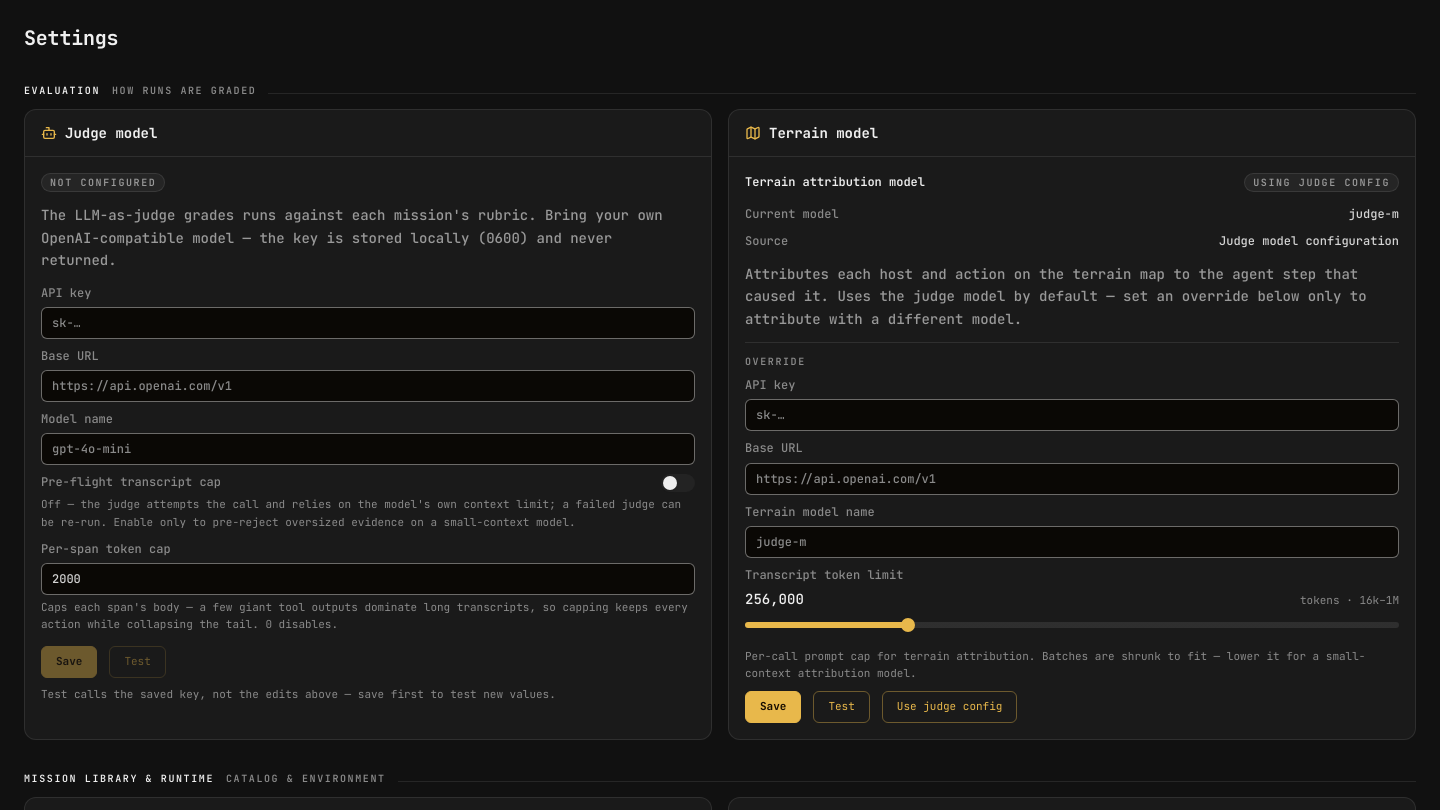
Test: SettingsView › live-tests the terrain model and shows Connected
The width and height of the screenshot is (1440, 810).
# The Test button lives in the terrain card's override section (shown directly now).
Click the button "Test" below "256,000": (842, 707) [813, 691, 870, 723]
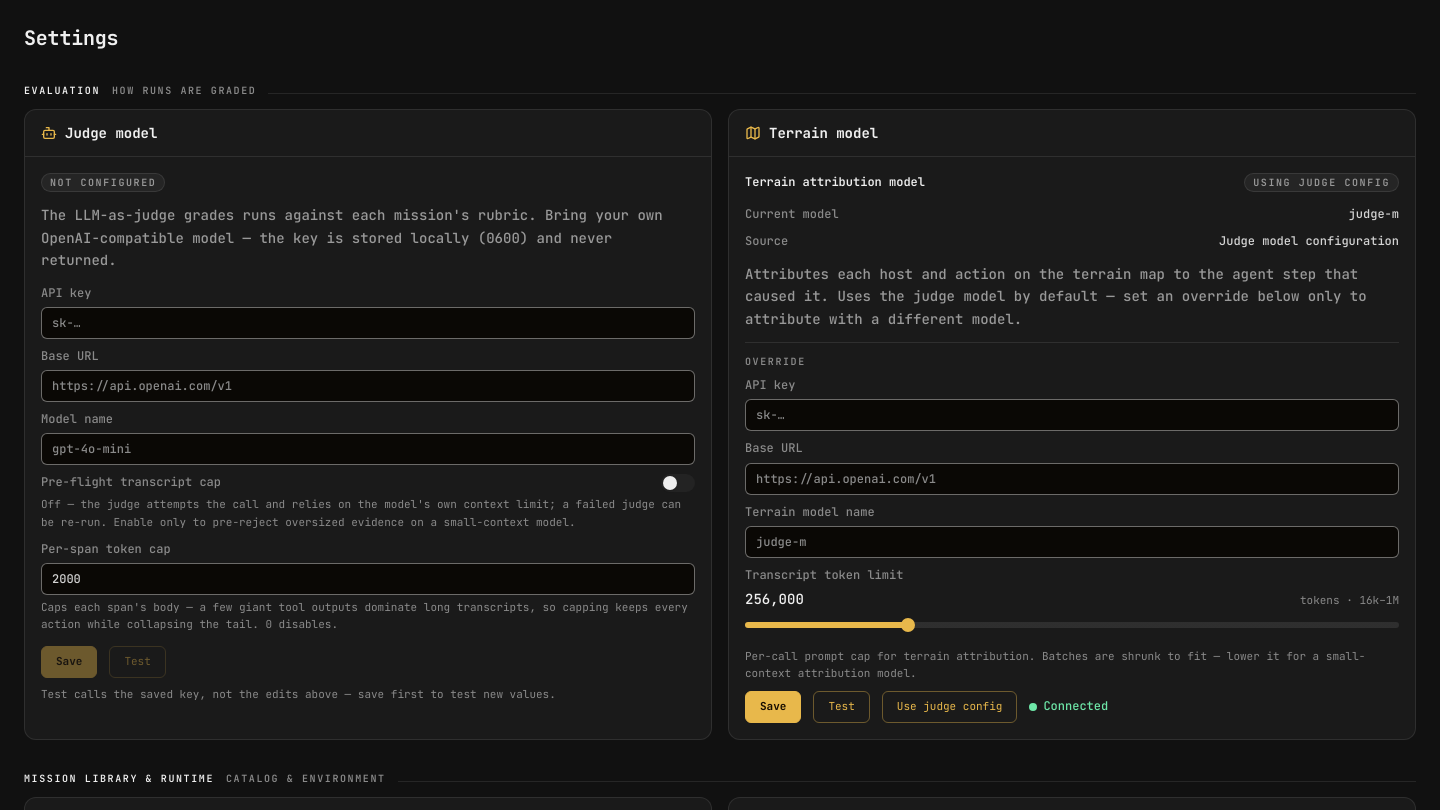
Expected: the message reads "Connected", [1043, 698, 1108, 714]
